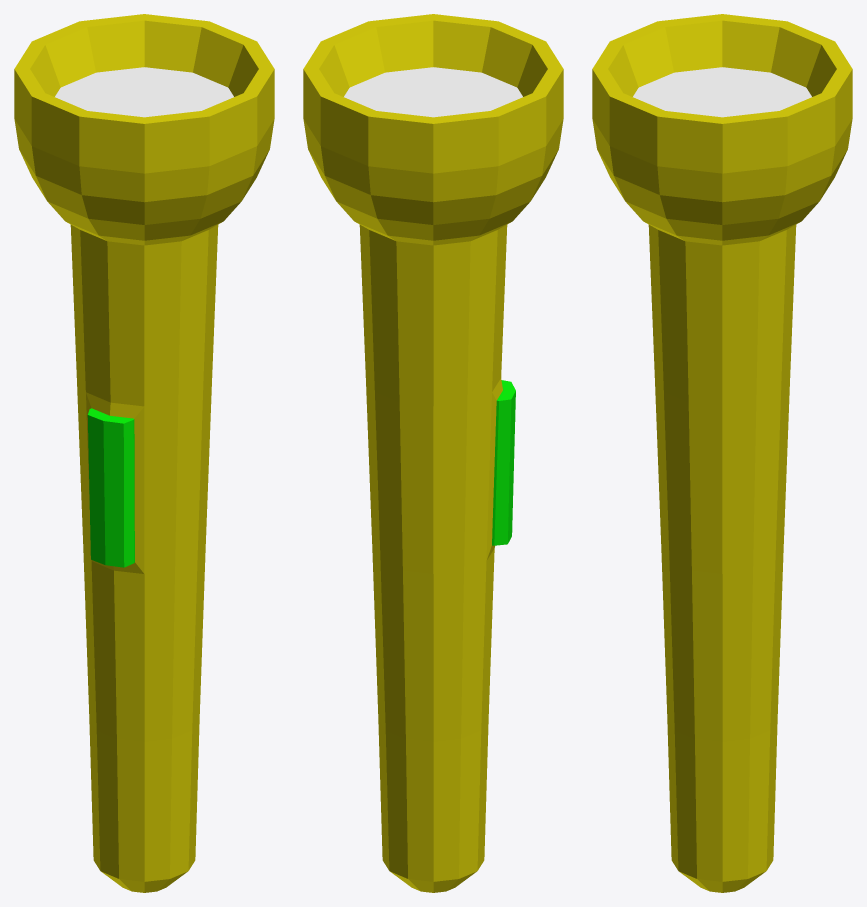
The model's file is TORCH.fbx.
The picture shows the model from 3 angles, left to right: view 1: azimuth 30°, elevation 25°; view 2: azimuth 150°, elevation 25°; view 3: azimuth 270°, elevation 25°; orthographic projection.
Parts seen in each view (by area): view 1: TORCH; view 2: TORCH; view 3: TORCH.
Part boxes in pixels (x1,y1,x2,y2): TORCH: (14, 14, 274, 892); TORCH: (303, 14, 563, 892); TORCH: (592, 14, 852, 892).
Bounding box in the file's own units: 9.99 × 34.46 × 9.99.
